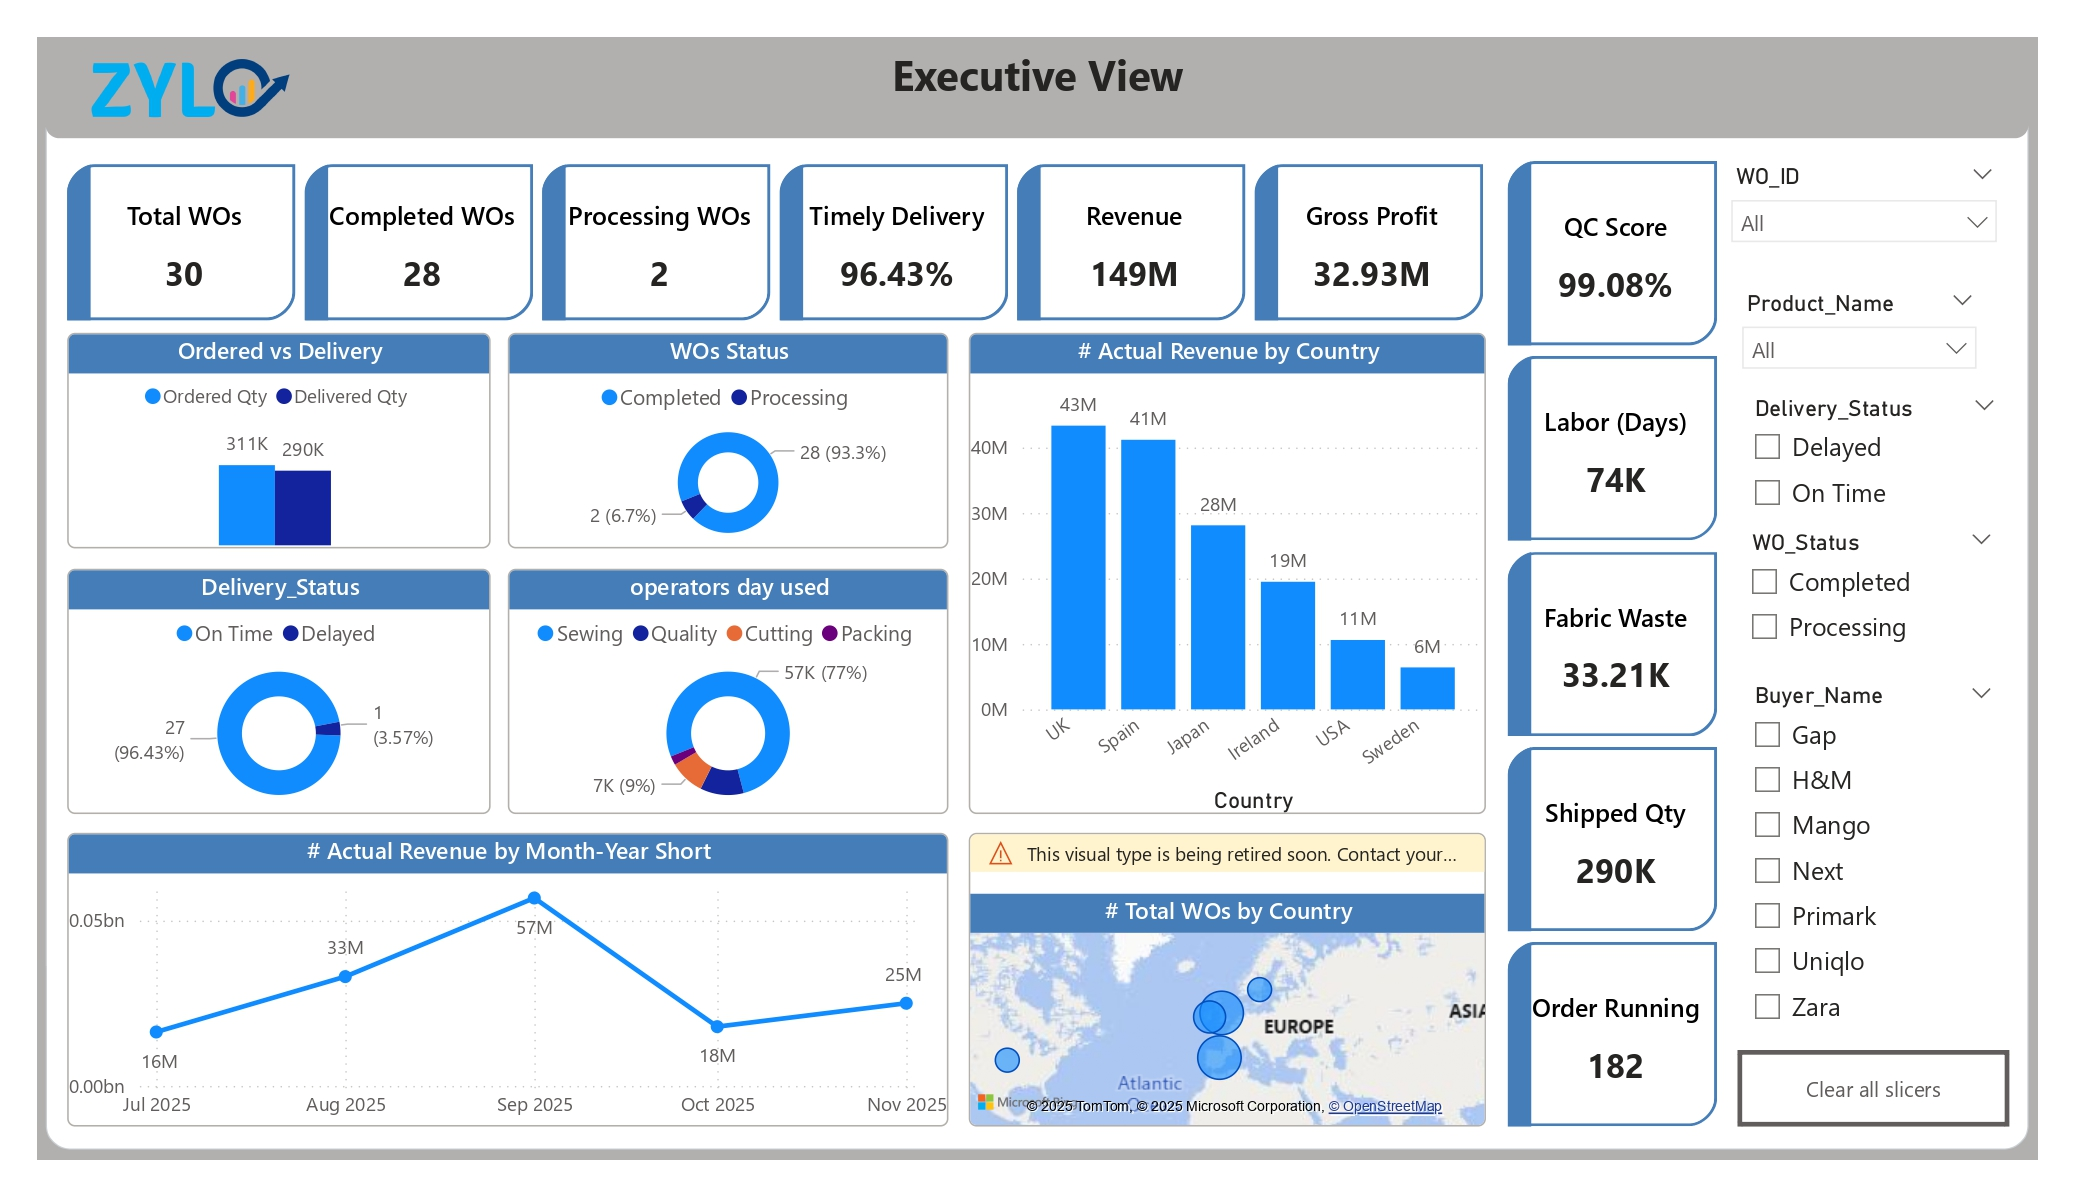

This screenshot's page, from the dashboard's own definition file:
{"tool":"powerbi","page":{"name":"5. Executive View","canvas":[1280,720],"ordinal":4},"visuals":[{"type":"donutChart","title":"WOs Status","fields":{"Y":["_Measures_0_Global.# Total WOs"],"Category":["Fact_WorkOrders.WO_Status"]},"box":[301.4,188.6,281.4,138.6],"z":0},{"type":"donutChart","title":"Delivery_Status","fields":{"Y":["_Measures_0_Global.# Total WOs"],"Category":["Fact_WorkOrders.Delivery_Status"]},"box":[18.6,340,271.4,157.1],"z":1000},{"type":"clusteredColumnChart","title":"Ordered vs Delivery","fields":{"Y":["_Measures_1_Executive.# Planned Output (Pieces)","_Measures_1_Executive.# Actual Output (Pieces)"]},"box":[18.6,188.6,271.4,138.6],"z":2000},{"type":"lineChart","fields":{"Category":["Dim_Date.Month-Year Short"],"Y":["_Measures_5_Cost&Profit.# Actual Revenue"]},"box":[18.6,508.6,564.3,188.6],"z":3000},{"type":"map","fields":{"Size":["_Measures_0_Global.# Total WOs"],"Category":["Dim_Buyer.Country"]},"box":[595.7,508.6,331.4,188.6],"z":4000},{"type":"donutChart","title":"operators day used","fields":{"Y":["_Measures_2_WO.# Total Sewing Operators","_Measures_2_WO.# Total Quality Operators","_Measures_2_WO.# Total Cutting Operators","_Measures_2_WO.# Total Packing Operators"]},"box":[301.4,340,281.4,157.1],"z":5000},{"type":"slicer","fields":{"Values":["Fact_WorkOrders.WO_Status"]},"box":[1084.5,310.3,179,88.5],"z":6000},{"type":"slicer","fields":{"Values":["Fact_WorkOrders.Delivery_Status"]},"box":[1085.5,224.3,179.1,94.1],"z":7000},{"type":"slicer","fields":{"Values":["Fact_WorkOrders.WO_ID"]},"box":[1073.6,76.4,190,73.6],"z":8000},{"type":"slicer","fields":{"Values":["Dim_Product.Product_Name"]},"box":[1081,157.4,170.1,66.9],"z":9000},{"type":"slicer","fields":{"Values":["Dim_Buyer.Buyer_Name"]},"box":[1085.5,408,177.3,231.6],"z":10000},{"type":"actionButton","box":[1088.2,647.7,173.7,49.8],"z":11000},{"type":"cardVisual","fields":{"Data":["_Measures_0_Global.# Total WOs","_Measures_2_WO.# Completed WOs","_Measures_2_WO.# Processing WOs","_Measures_4_Timeline&Delivery.# On-Time Delivery % (Completed Only)","_Measures_5_Cost&Profit.# Actual Revenue","_Measures_5_Cost&Profit.# Gross Profit"]},"box":[14.3,75.7,921.4,110],"z":12000},{"type":"cardVisual","fields":{"Data":["_Measures_3_Quality.# Quality Score %","_Measures_0_Global.# Total Operators (Day)","_Measures_3_Quality.# Total Waste Fabric (M)","_Measures_0_Global.# Total Shipped Quantity","_Measures_4_Timeline&Delivery.# Actual Cycle Time (Days)"]},"box":[935.9,74,144.7,630.4],"z":13000},{"type":"clusteredColumnChart","fields":{"Category":["Dim_destination.Country"],"Y":["_Measures_5_Cost&Profit.# Actual Revenue"]},"box":[595.7,188.6,331.4,308.6],"z":14000},{"type":"textbox","box":[344.3,0,591.4,60],"z":15000}]}

Visuals, with their boxes on the page's 1280x720 design canvas (x1, y1, x2, y2). These are canvas units, not pixel positions in the 2075x1200 screenshot, which may show the page scaled, cropped or inside an application window:
"WOs Status" donutChart: Rect(301, 189, 583, 327)
"Delivery_Status" donutChart: Rect(19, 340, 290, 497)
"Ordered vs Delivery" clusteredColumnChart: Rect(19, 189, 290, 327)
lineChart - Dim_Date.Month-Year Short x _Measures_5_Cost&Profit.# Actual Revenue: Rect(19, 509, 583, 697)
map - _Measures_0_Global.# Total WOs x Dim_Buyer.Country: Rect(596, 509, 927, 697)
"operators day used" donutChart: Rect(301, 340, 583, 497)
slicer - Fact_WorkOrders.WO_Status: Rect(1084, 310, 1264, 399)
slicer - Fact_WorkOrders.Delivery_Status: Rect(1086, 224, 1265, 318)
slicer - Fact_WorkOrders.WO_ID: Rect(1074, 76, 1264, 150)
slicer - Dim_Product.Product_Name: Rect(1081, 157, 1251, 224)
slicer - Dim_Buyer.Buyer_Name: Rect(1086, 408, 1263, 640)
actionButton: Rect(1088, 648, 1262, 698)
cardVisual - _Measures_0_Global.# Total WOs x _Measures_2_WO.# Completed WOs: Rect(14, 76, 936, 186)
cardVisual - _Measures_3_Quality.# Quality Score % x _Measures_0_Global.# Total Operators (Day): Rect(936, 74, 1081, 704)
clusteredColumnChart - Dim_destination.Country x _Measures_5_Cost&Profit.# Actual Revenue: Rect(596, 189, 927, 497)
textbox: Rect(344, 0, 936, 60)
